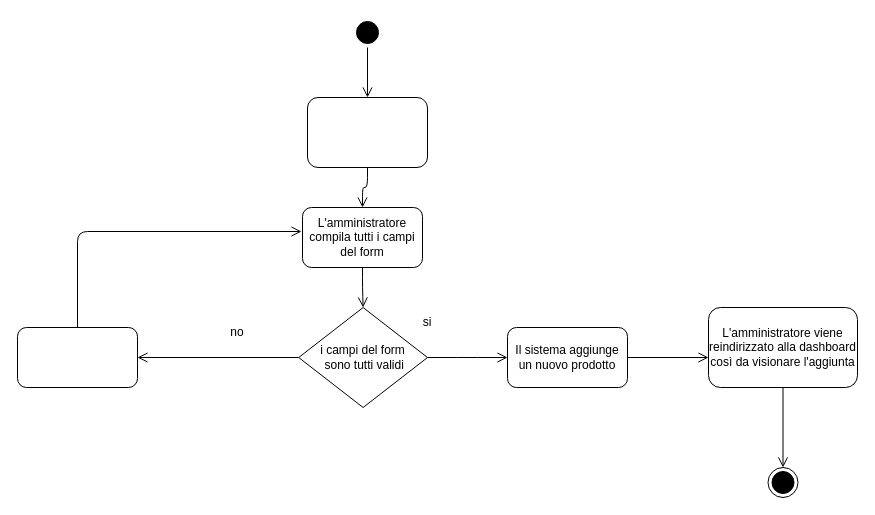
Some shapes in this 875 by 515 pixel diagram are drawn without their labels. The centre of each missing label's shape, as x and y in pixels:
Accesso alla pagina dedicata per aggiungere un nuovo prodotto: point (367, 132)
Si invita l'amministratore ad inserire nuovamente i campi non validi: point (77, 357)
